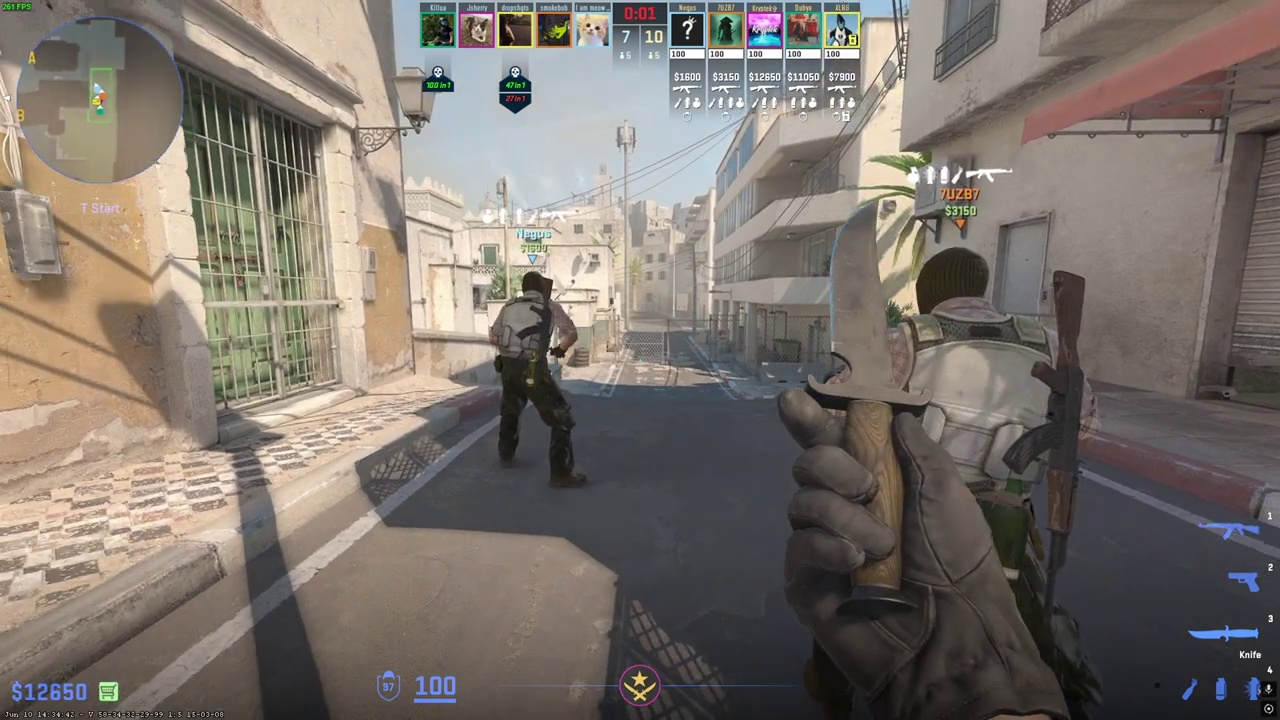Terrorist: (879, 247, 1101, 717), (489, 271, 581, 489)
